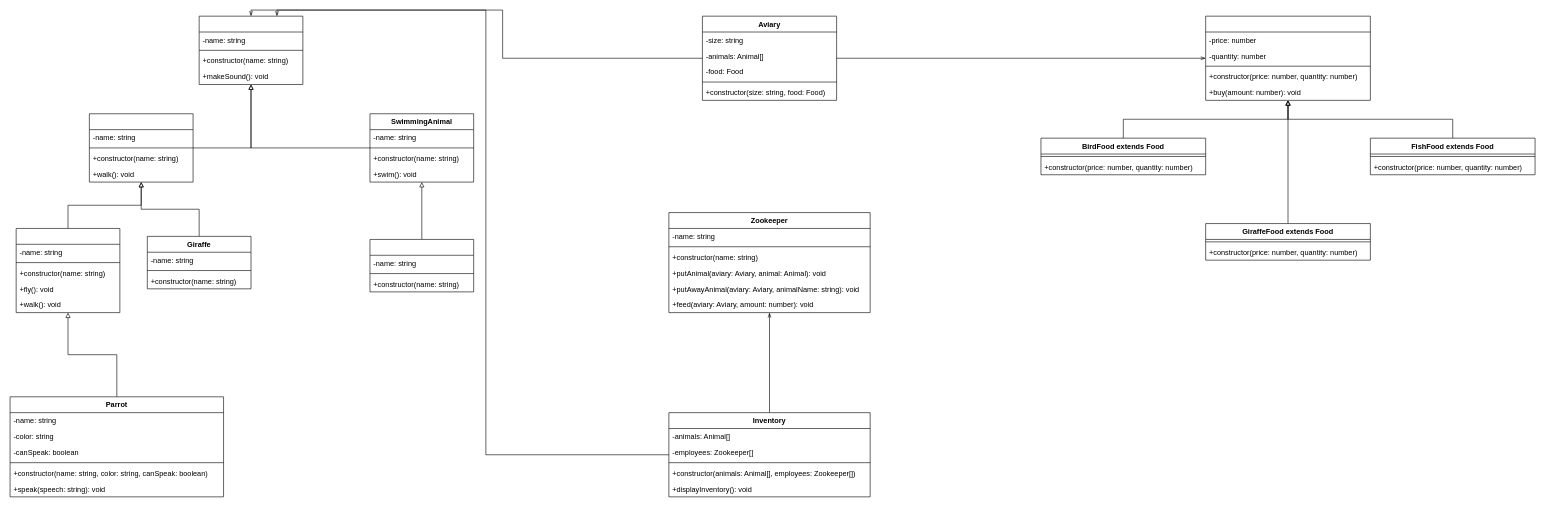
This 1545x507 diagram has some shape labels left out. The shapes that lost their labels are listed below. From the top down, each one's box as (x1, y1, x2, y2) in pixels, then its label:
(199, 16, 303, 84): Animal
(1205, 16, 1370, 100): Food
(89, 113, 193, 182): WalkingAnimal
(16, 228, 120, 313): Bird
(369, 239, 474, 292): Fish
